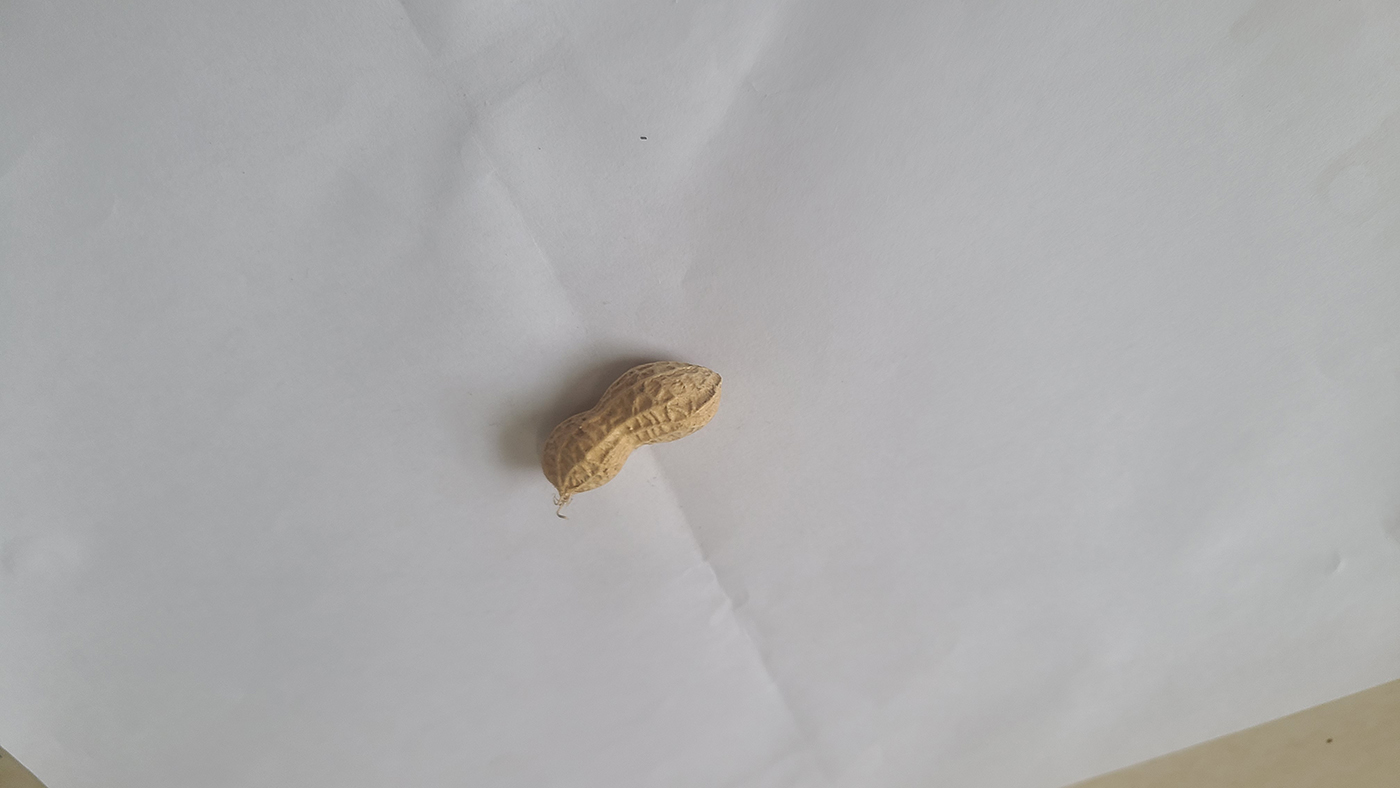h: (539, 359, 725, 495)
